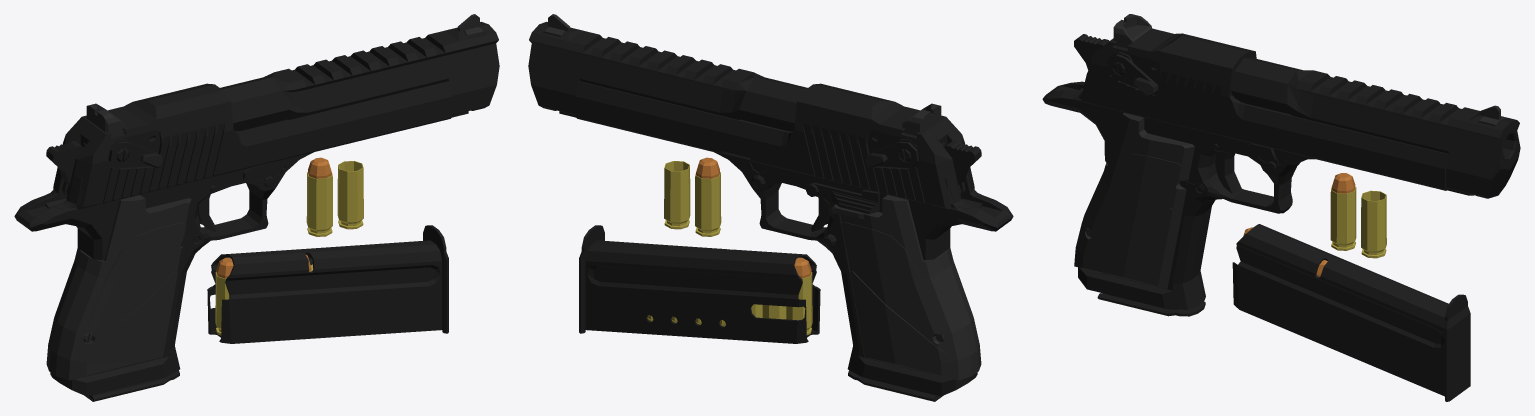
File: low-poly_desert_eagle_xix.glb
3 renders of one model, left to right at view 1: azimuth 30°, elevation 25°; view 2: azimuth 150°, elevation 25°; view 3: azimuth 330°, elevation 25°, orthographic.
Visible parts, largest first — view 1: deagle frame_7, mag, deagle slide_5, deagle barrel_4, 50ae_0, 50ae case_1, deagle safety_6, deagle hammer_8; view 2: deagle frame_7, mag, deagle slide_5, deagle barrel_4, 50ae_0, 50ae case_1, deagle slide release_10, deagle safety_6, deagle hammer_8; view 3: deagle frame_7, mag, deagle slide_5, deagle barrel_4, 50ae_0, 50ae case_1, deagle safety_6, deagle trigga_9, deagle hammer_8.
Boxes of the visible parts, bbox=[...] form: deagle frame_7: bbox=[14, 111, 468, 396]; mag: bbox=[84, 225, 448, 401]; deagle slide_5: bbox=[53, 81, 452, 209]; deagle barrel_4: bbox=[220, 14, 499, 131]; 50ae_0: bbox=[306, 157, 332, 236]; 50ae case_1: bbox=[337, 161, 363, 229]; deagle safety_6: bbox=[107, 138, 162, 168]; deagle hammer_8: bbox=[46, 141, 83, 196]; deagle frame_7: bbox=[559, 111, 1013, 396]; mag: bbox=[579, 225, 943, 401]; deagle slide_5: bbox=[575, 81, 974, 209]; deagle barrel_4: bbox=[528, 14, 807, 131]; 50ae_0: bbox=[695, 157, 721, 236]; 50ae case_1: bbox=[664, 161, 690, 229]; deagle slide release_10: bbox=[806, 182, 879, 214]; deagle safety_6: bbox=[865, 138, 920, 168]; deagle hammer_8: bbox=[944, 141, 981, 196]; deagle frame_7: bbox=[1042, 71, 1473, 309]; mag: bbox=[1097, 224, 1470, 401]; deagle slide_5: bbox=[1081, 14, 1448, 190]; deagle barrel_4: bbox=[1231, 57, 1520, 198]; 50ae_0: bbox=[1330, 173, 1356, 250]; 50ae case_1: bbox=[1361, 190, 1386, 258]; deagle safety_6: bbox=[1107, 52, 1158, 96]; deagle trigga_9: bbox=[1215, 152, 1241, 193]; deagle hammer_8: bbox=[1074, 34, 1109, 70].
Size of the model in its own units: 2.73 by 1.68 by 0.3829.
